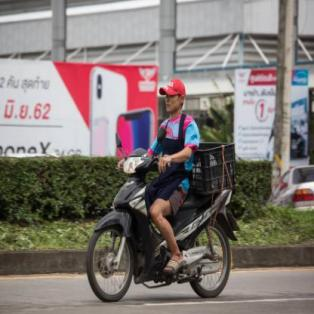Motocicleta: (85, 143, 237, 302)
